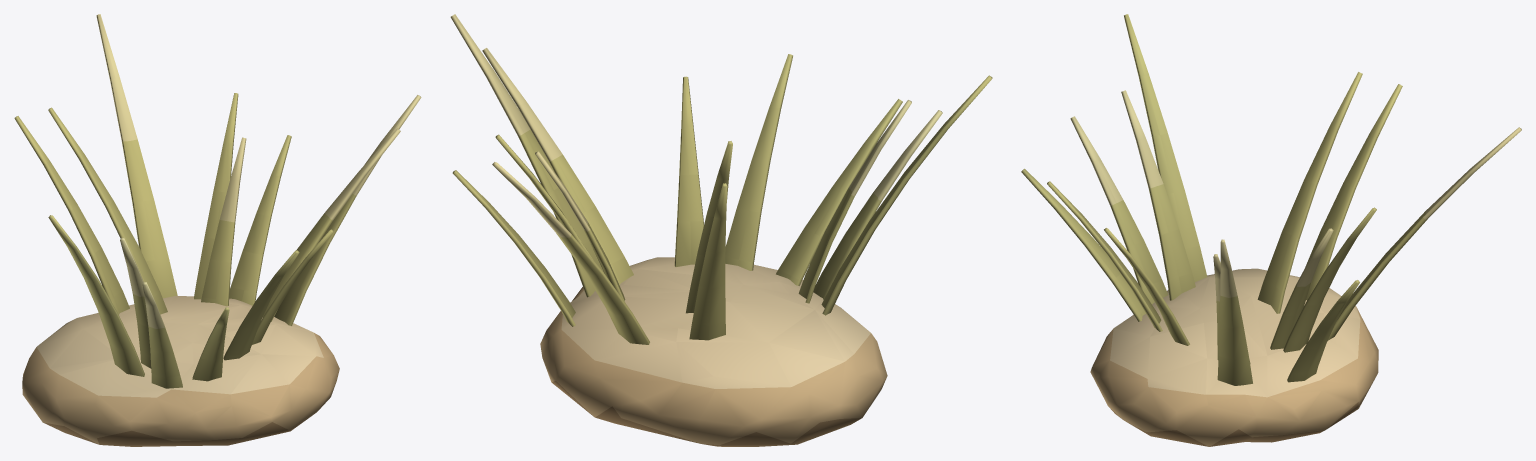
Rendered from shore_marram_a.glb.
3 views of the same model, side by side, from view 1: azimuth 30°, elevation 25°; view 2: azimuth 150°, elevation 25°; view 3: azimuth 270°, elevation 25° (orthographic). The views are drawn at different scales.
Parts seen in each view (by area): view 1: shore_marram_a; view 2: shore_marram_a; view 3: shore_marram_a.
Part boxes in pixels (bbox=[...]): shore_marram_a: bbox=[14, 14, 421, 446]; shore_marram_a: bbox=[450, 14, 992, 446]; shore_marram_a: bbox=[1021, 14, 1521, 446].
Bounding box in the file's own units: 4.16 × 2.86 × 4.14.
